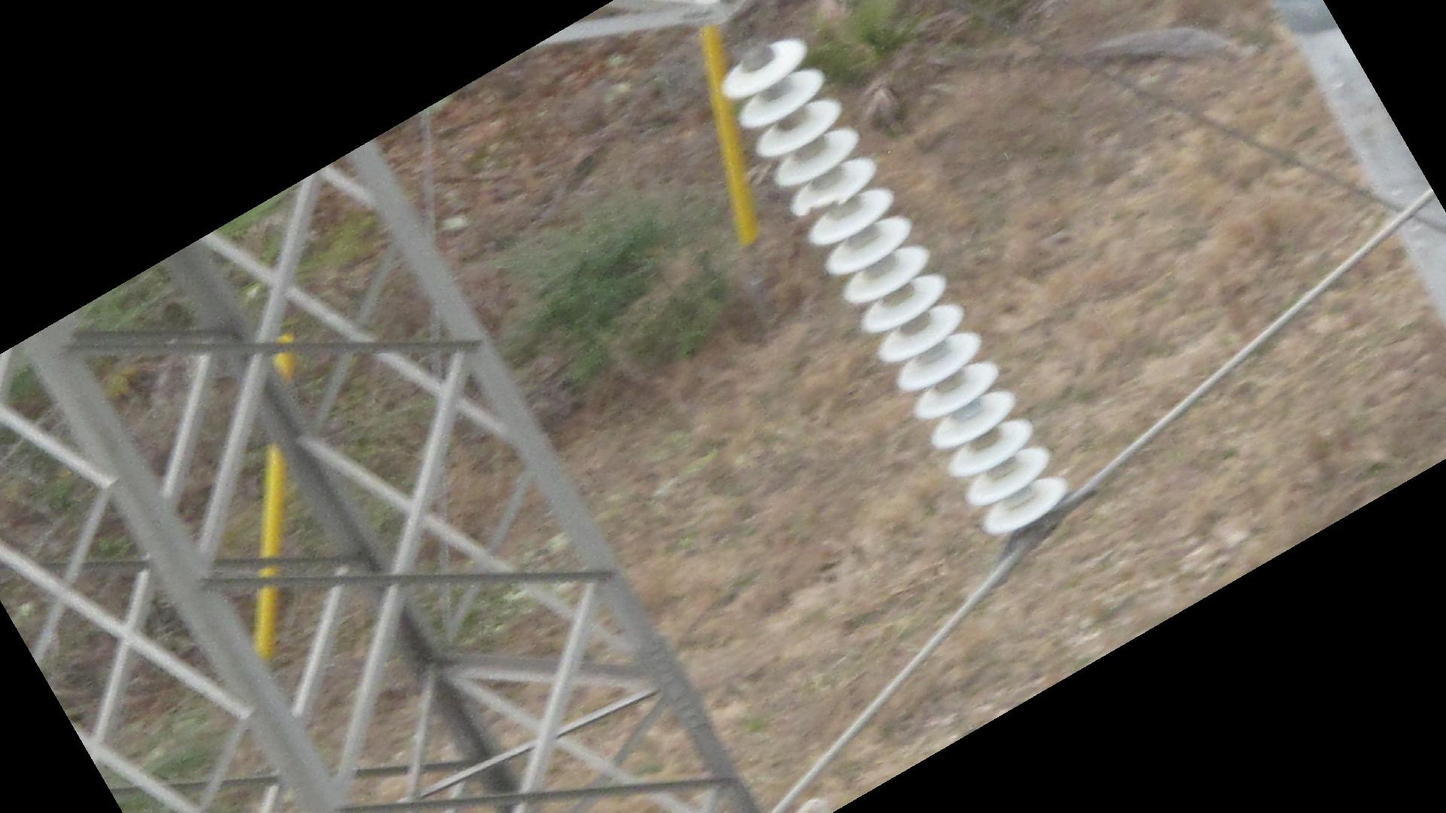insulator: (712, 34, 1072, 542)
insulator_breakage: (795, 190, 850, 220)
